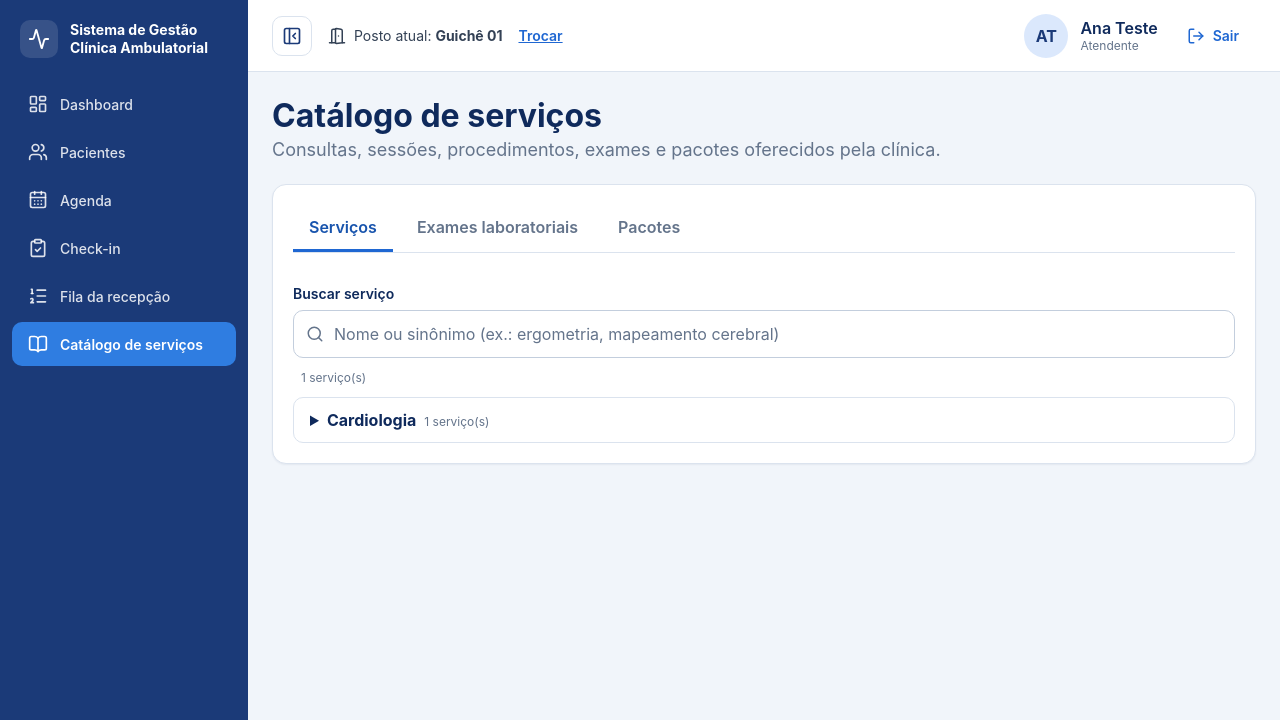
Test: CatalogPage › busca serviços por sinônimo e mostra exames laboratoriais
The width and height of the screenshot is (1280, 720).
Type "ergometria" into the field labelled "Buscar serviço" at (777, 334), box [332,323,1222,345]
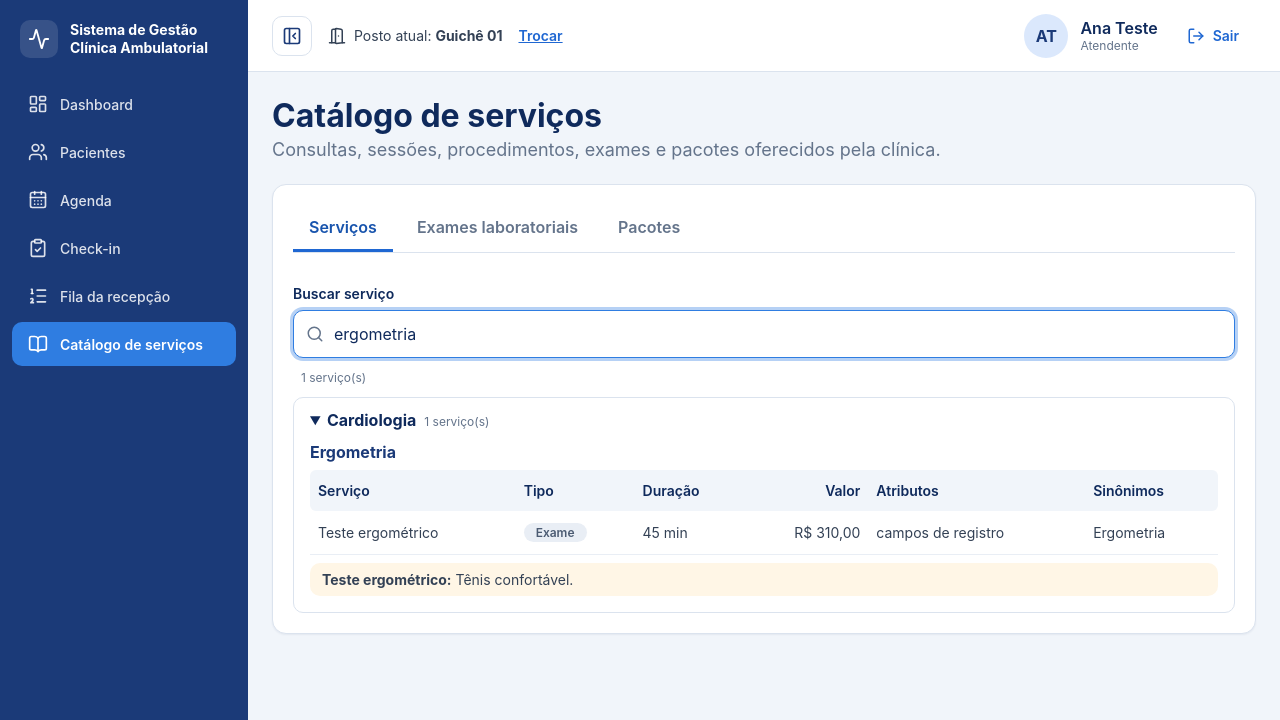
Expected: the text "Teste ergométrico" is shown, [310,511,516,554]
Expected: the text "45 min" is shown, [634,511,745,554]
Expected: the text "R$ 310,00" is shown, [745,511,868,554]
Click the tab "Exames laboratoriais" at (498, 228), box [401,205,594,252]
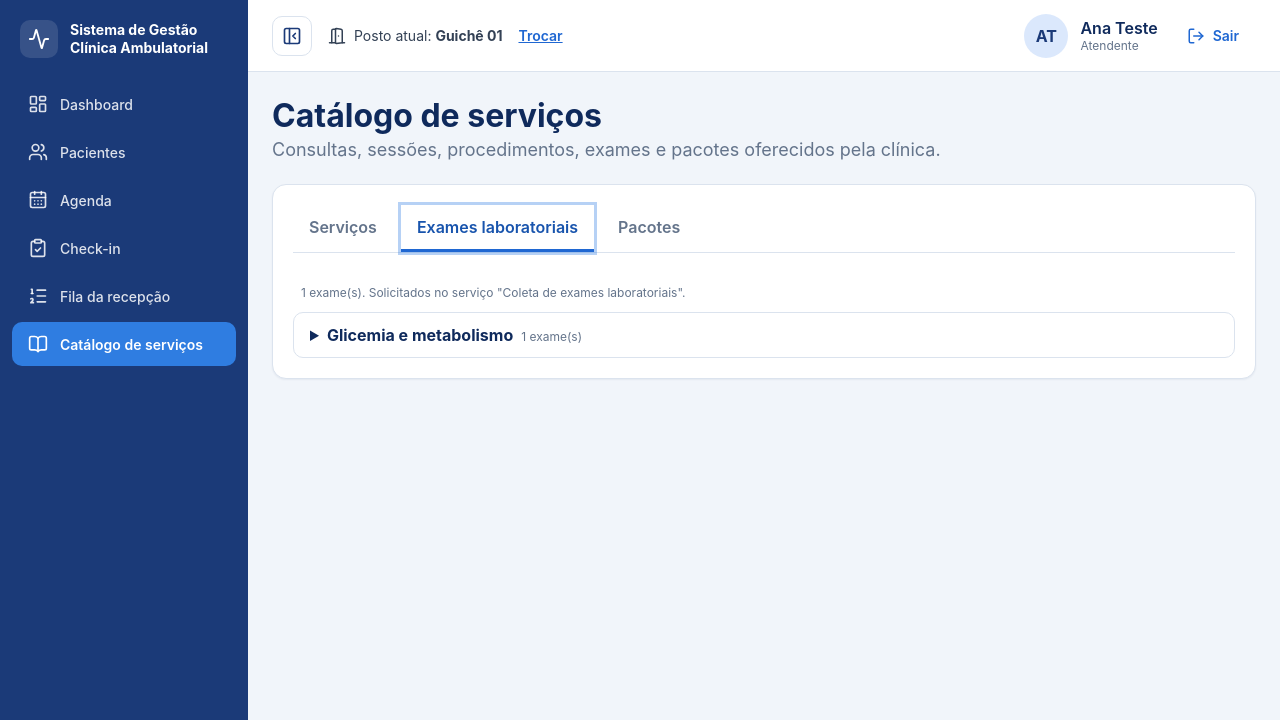
Click the heading "Glicemia e metabolismo1 exame(s)" at (454, 335), box [327,325,582,345]
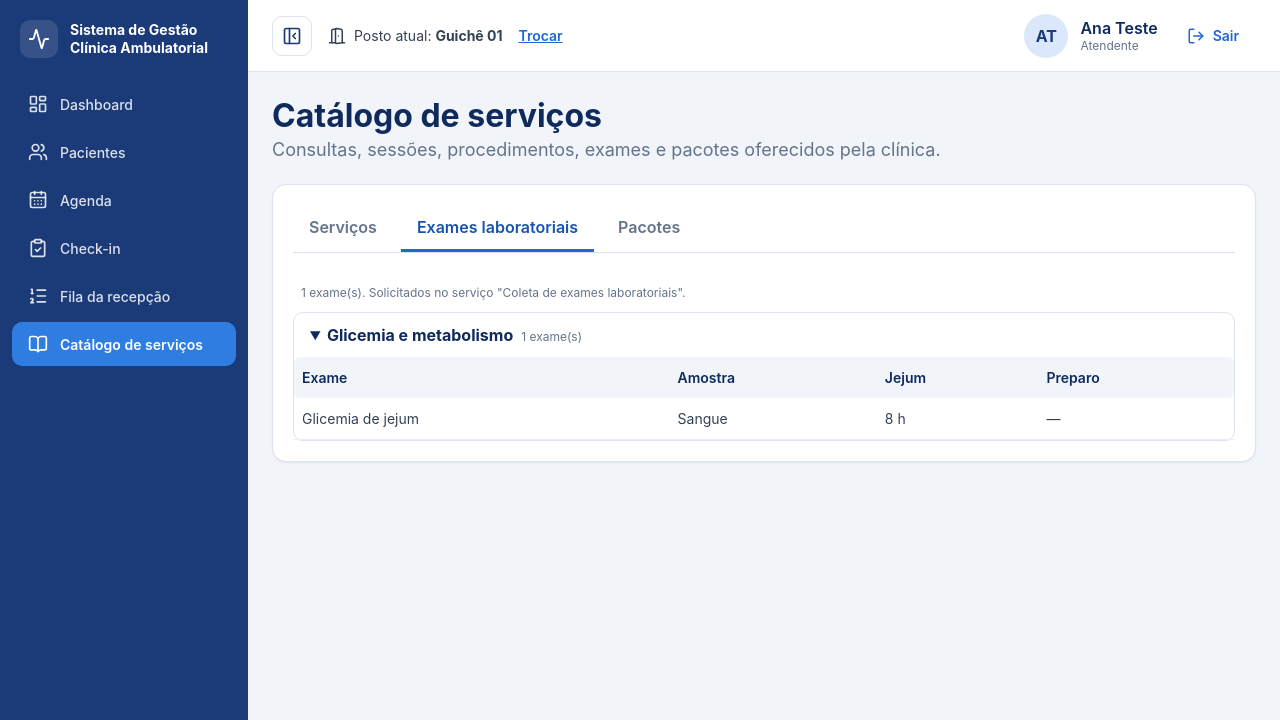
Expected: the text "8 h" is shown, [877,398,1038,440]
